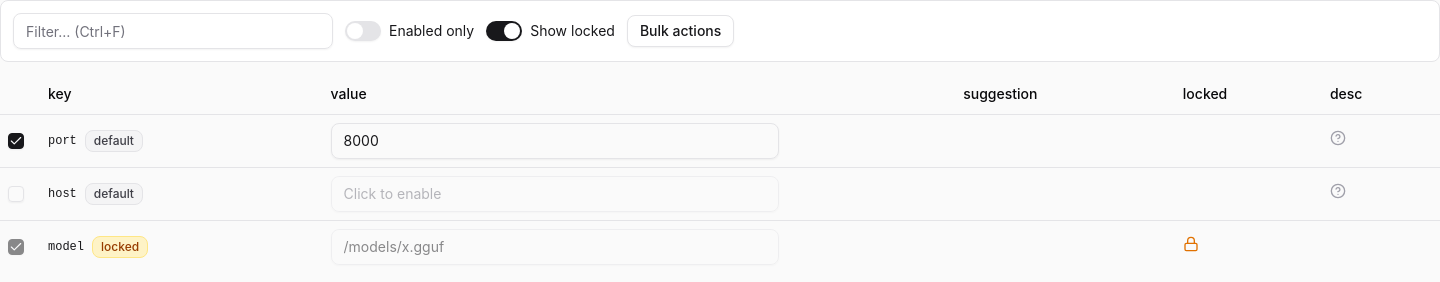
ParamGrid › typing in filter narrows the list
Type "bind" into the field named "Filter parameters" at (173, 31), box [13,13,333,49]
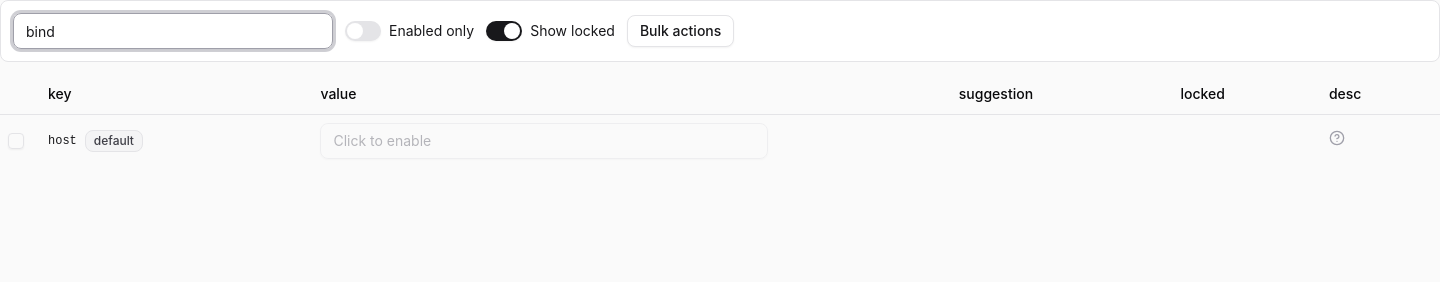
Expected: the row with test id "param-row-host" is shown, [0,114,1439,166]
Expected: the row with test id "param-row-port" is gone
